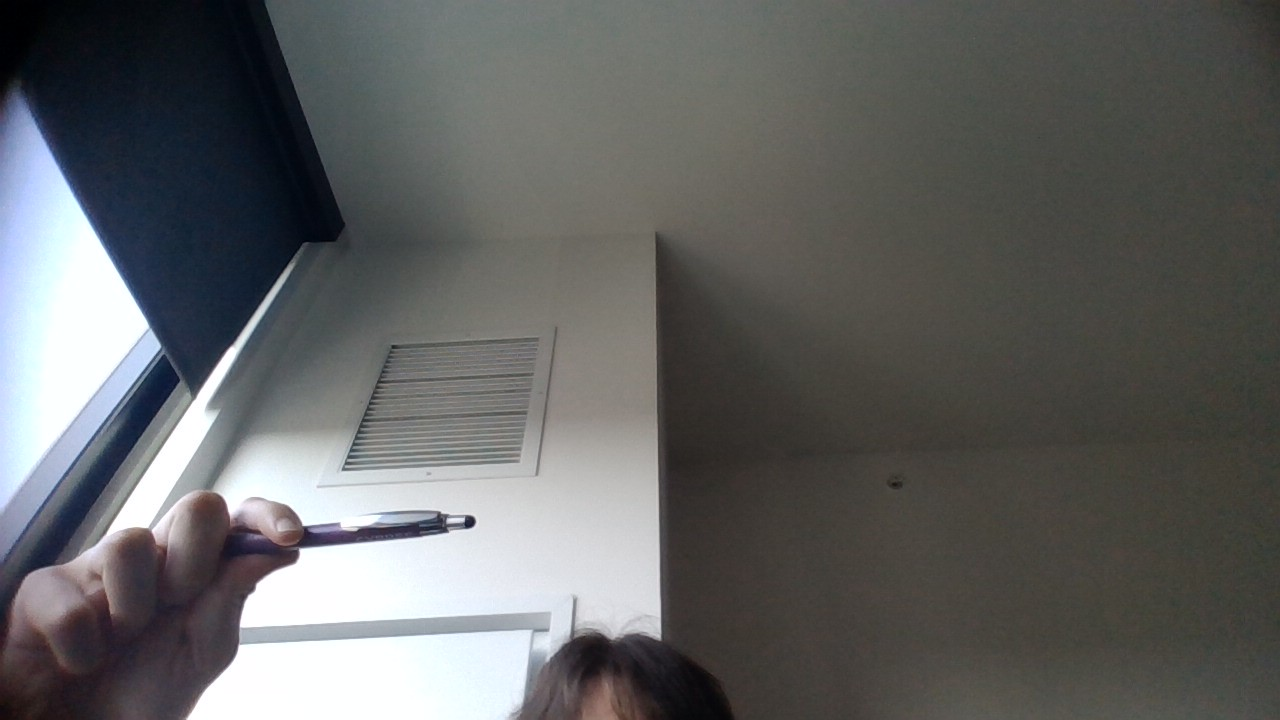Cypres Pen Purple: (211, 504, 473, 556)
